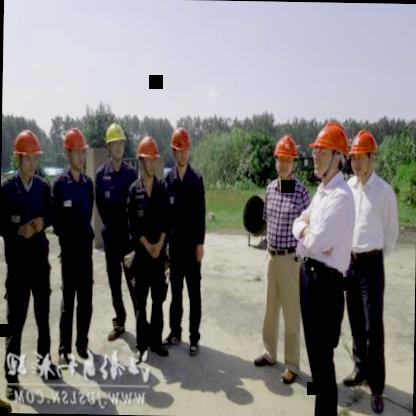helmet: (310, 119, 349, 182), (349, 125, 381, 181), (11, 127, 43, 182), (271, 132, 300, 182), (134, 132, 160, 180), (62, 124, 86, 174), (169, 122, 192, 173), (103, 119, 126, 162)
